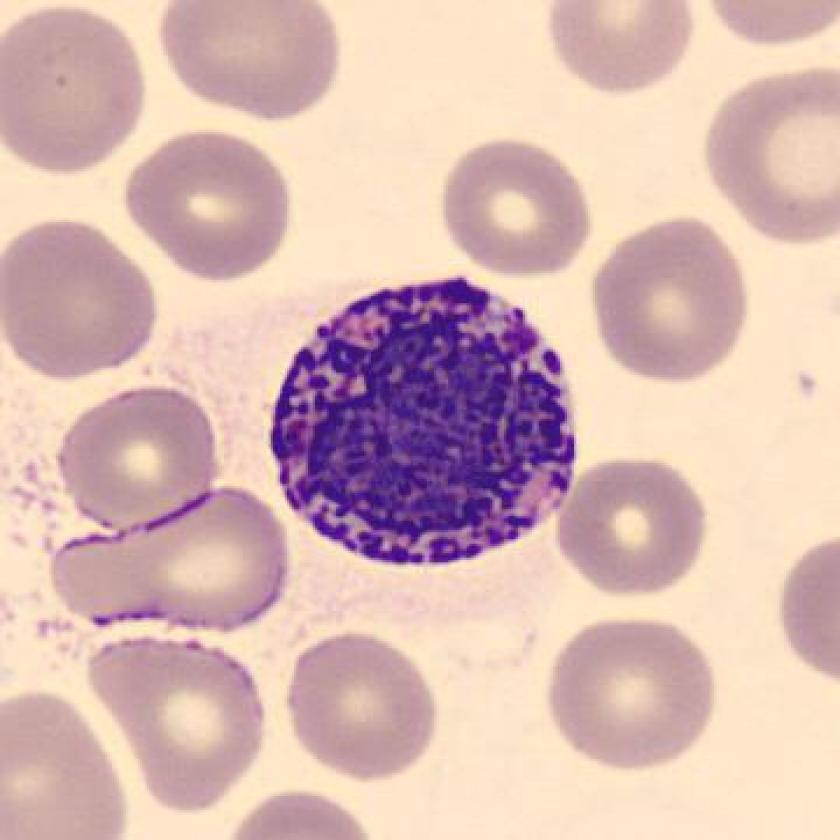basophil: (256, 265, 592, 582)
